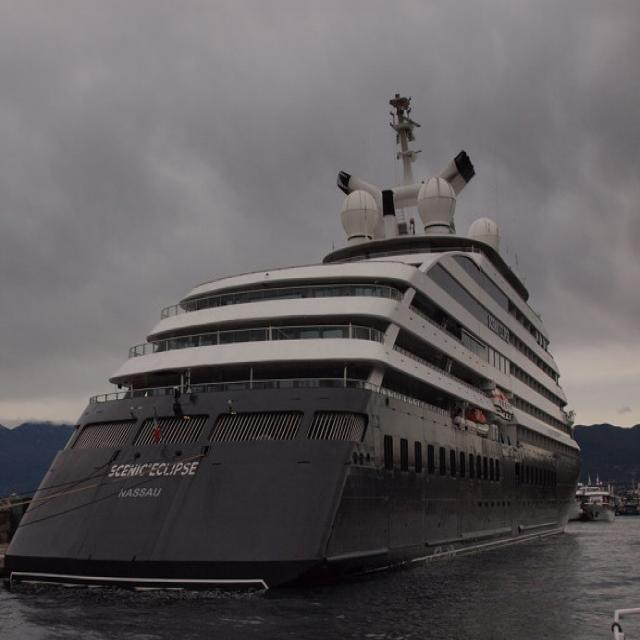cruises: (1, 90, 588, 604)
